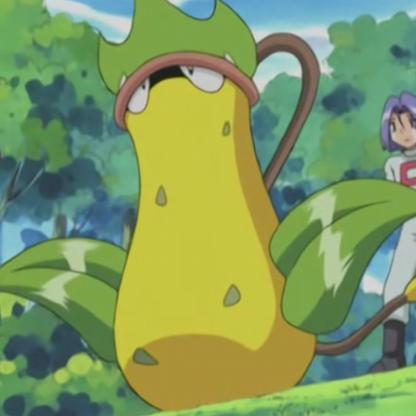Victreebel: (52, 21, 407, 393)
